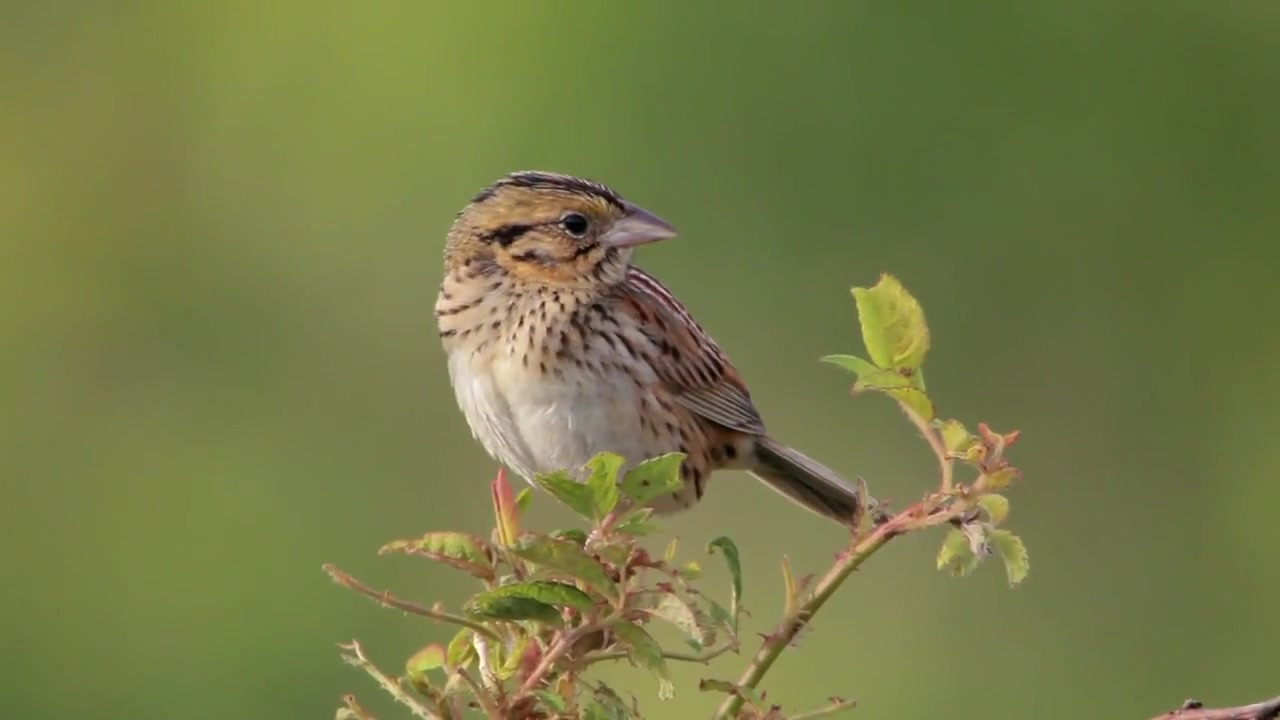bird: (427, 171, 892, 537)
